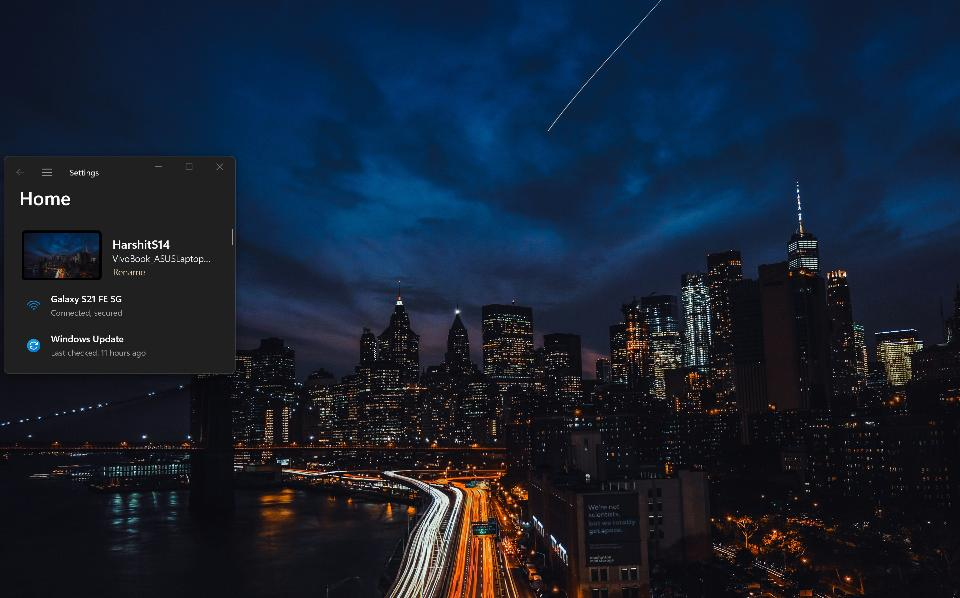close_button: (208, 156, 230, 177)
maximize_button: (178, 156, 200, 176)
minimize_button: (146, 157, 167, 176)
